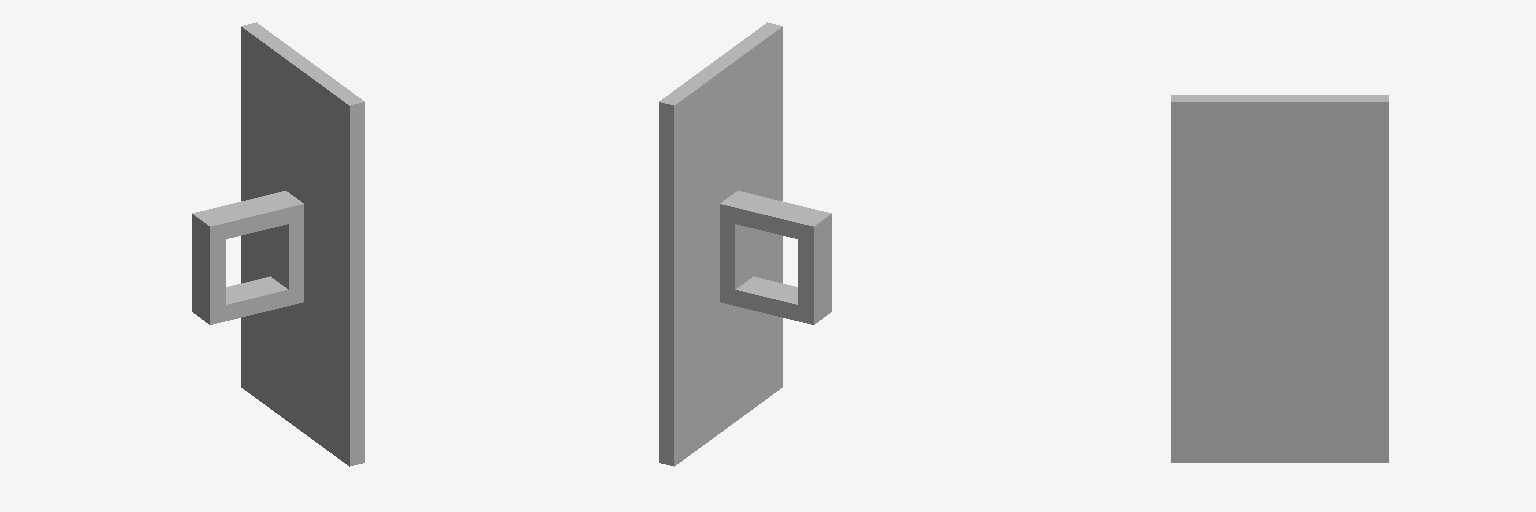
The model's file is shield.obj.
The picture shows the model from 3 angles: view 1: azimuth 30°, elevation 25°; view 2: azimuth 150°, elevation 25°; view 3: azimuth 270°, elevation 25°; orthographic projection.
Visible parts, largest first — view 1: cube; view 2: cube; view 3: cube.
Boxes of the visible parts, x1,y1,x2,y2 form: cube: [192, 22, 364, 466]; cube: [659, 22, 831, 466]; cube: [1171, 95, 1388, 462].
Size of the model in its own units: 0.4375 by 1.38 by 0.75.